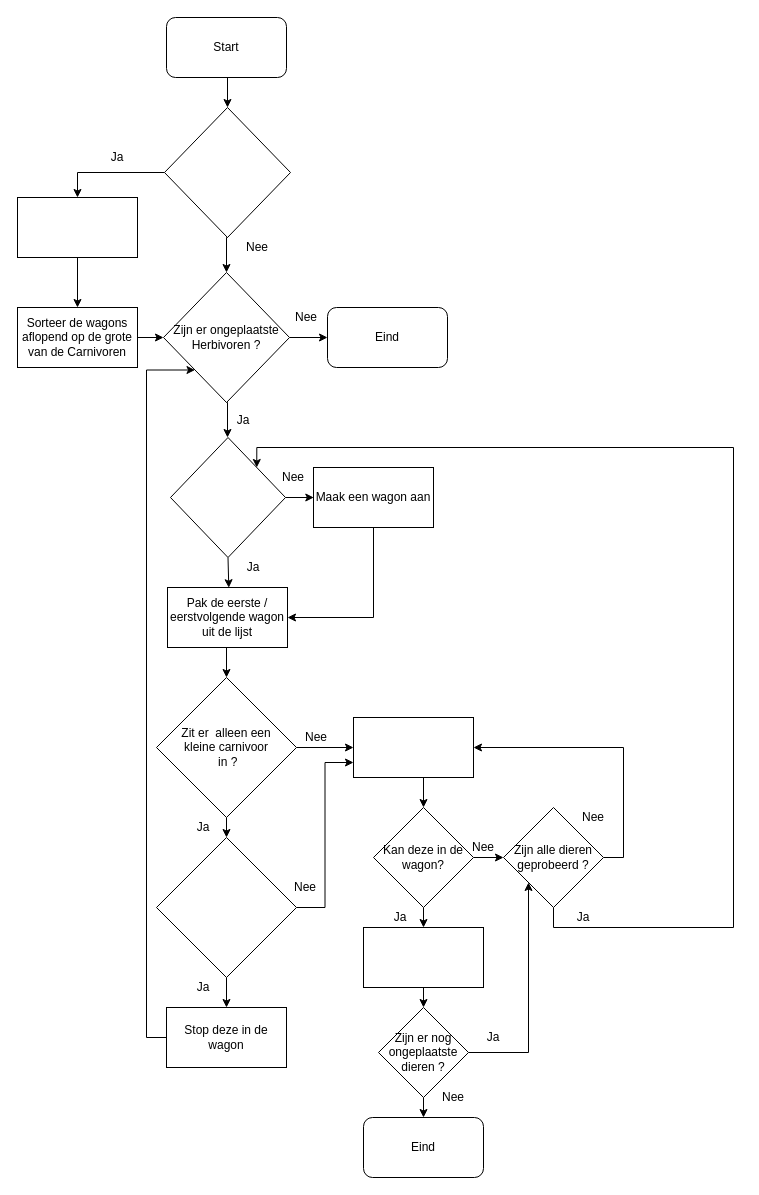
The diagram is 759 pixels wide and 1195 high, and some of its shapes have lost their labels. The shapes that lost their labels are listed below. From the top down, each one's centre as x and y in pixels, then its label:
At point (227, 172): "Zijn er ongeplaatste Carnivoren ?".
At point (77, 227): "Stop elke carnivoor in een aparte wagon".
At point (228, 497): "Is er tenminste een wagon beschikbaar ?".
At point (413, 747): "Pak het grootste / violgende grootste ongeplaatste dier".
At point (226, 907): "Zijn er 3 middelgrote Herbivoren beschikbaar ?".
At point (423, 957): "Plaats het dier in de wagon".
